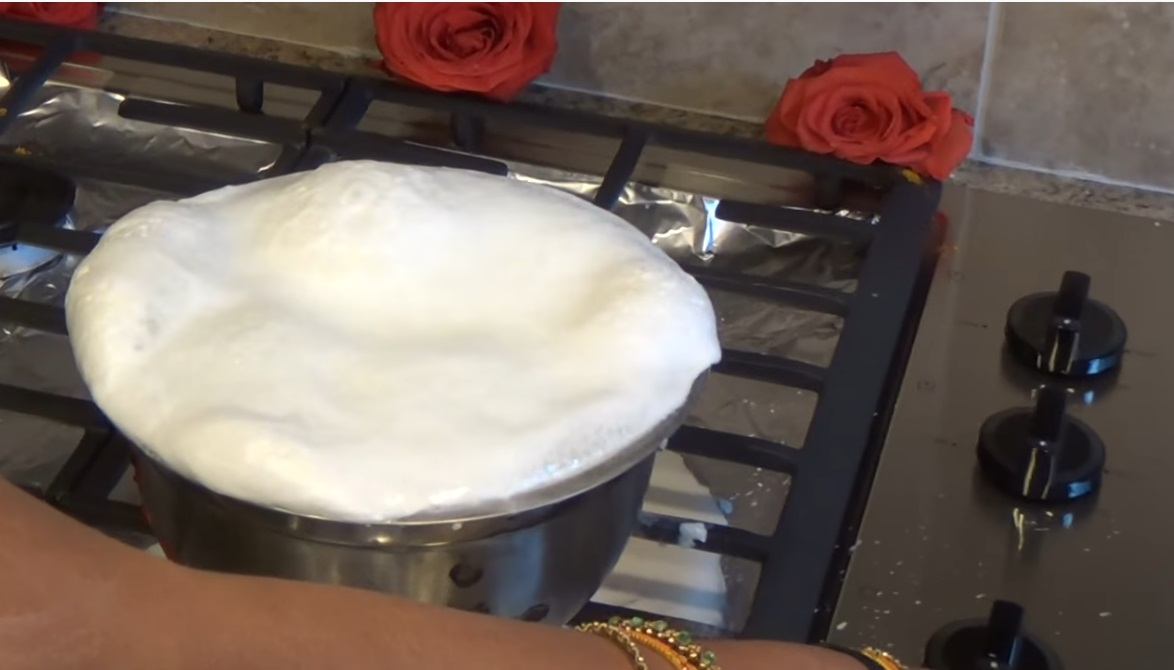Boiled: (50, 151, 722, 585)
